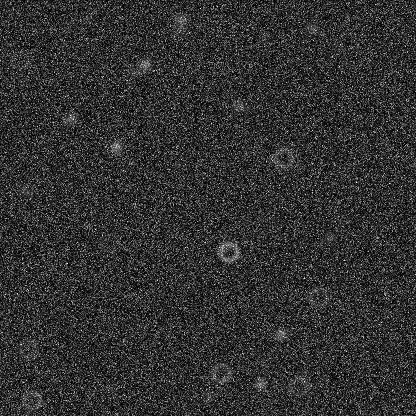Ring: (16, 336, 40, 360), (334, 28, 358, 52), (216, 239, 240, 263), (286, 374, 310, 398), (96, 230, 120, 254), (7, 48, 31, 72), (306, 284, 330, 308), (19, 388, 43, 412), (208, 361, 232, 385), (271, 145, 295, 169)
Spot: (171, 22, 187, 38), (15, 182, 31, 198), (136, 56, 152, 72), (108, 138, 124, 154), (321, 229, 337, 245), (231, 98, 247, 114), (383, 326, 399, 342), (172, 10, 188, 26), (200, 388, 216, 404), (304, 20, 320, 36), (101, 380, 117, 396), (62, 110, 78, 126), (79, 10, 95, 26), (141, 106, 157, 122), (272, 326, 288, 342), (252, 376, 268, 392), (124, 64, 140, 80), (257, 29, 273, 45)
